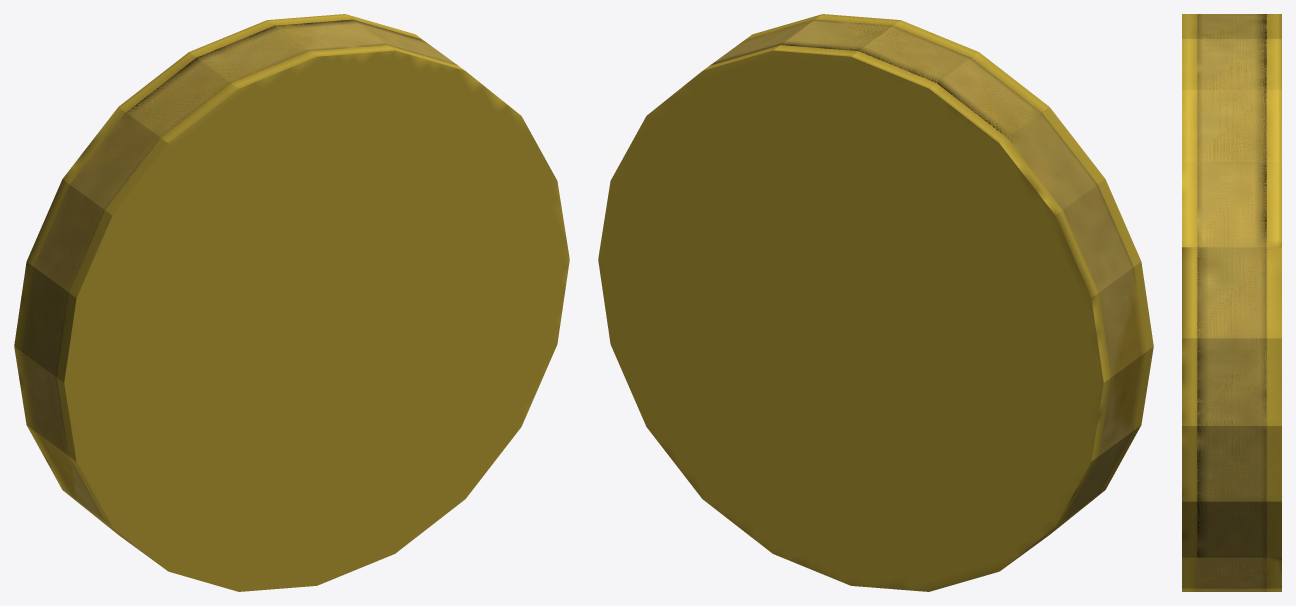
File: coin.glb
The picture shows the model from 3 angles, left to right: view 1: azimuth 30°, elevation 25°; view 2: azimuth 150°, elevation 25°; view 3: azimuth 270°, elevation 25°; orthographic projection.
Visible parts, largest first — view 1: coin; view 2: coin; view 3: coin.
Part boxes in pixels (x1,y1,x2,y2): coin: (14,14,569,591); coin: (598,14,1153,591); coin: (1182,14,1281,591).
Size of the model in its own units: 0.84 by 0.84 by 0.144.
2 materials, 2 textured.
